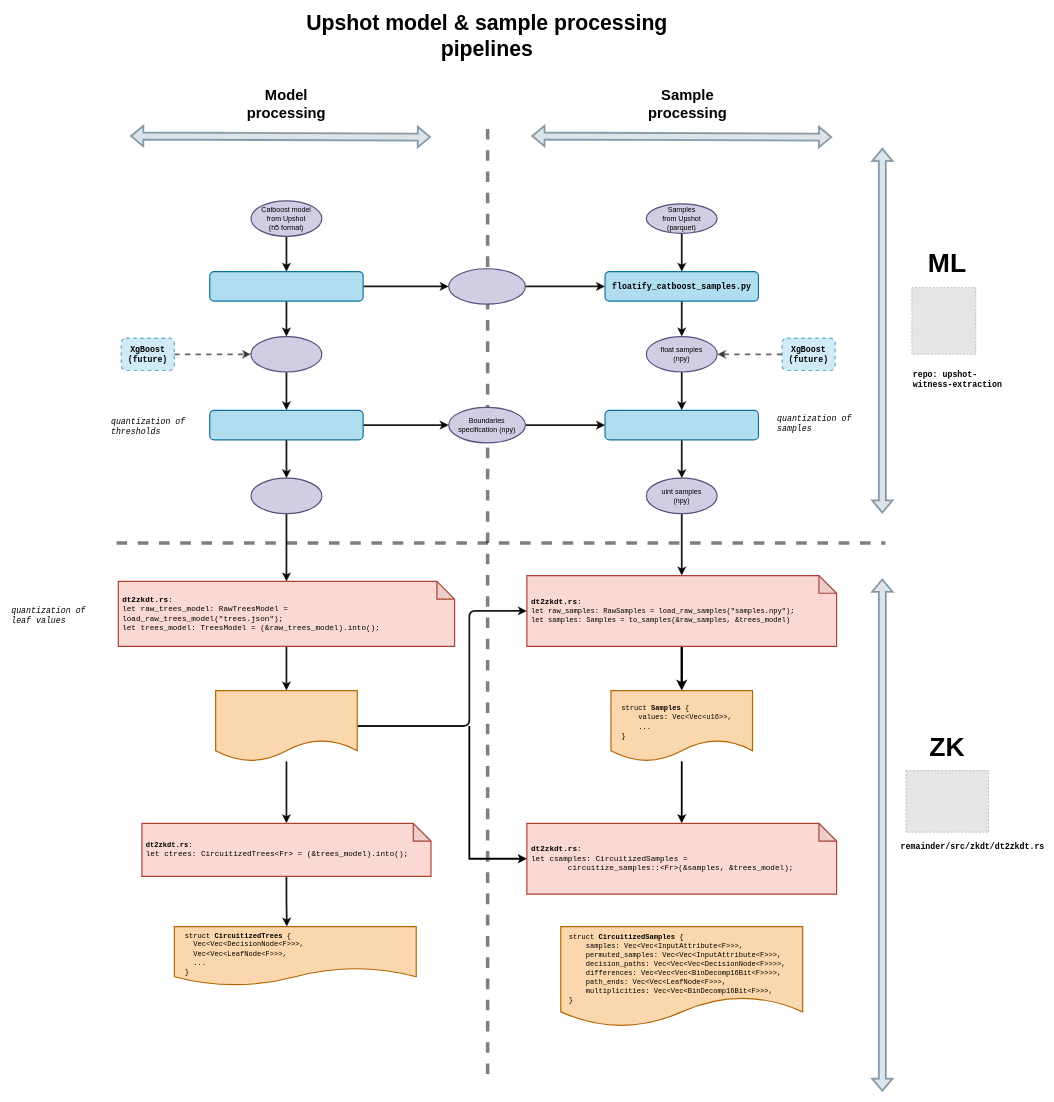
This 1054x1102 diagram has some shape labels left out. Grey dashed boxes stand in for pictures. Each missing label, with the centre of its shape:
"Feature specification (pickle)" belongs at pixel 487 286.
"float-threshold trees (JSON)" belongs at pixel 286 354.
"floatify_catboost_model.py" belongs at pixel 286 286.
"quantize_float_model.py" belongs at pixel 286 424.
"quantize_float_samples.py" belongs at pixel 681 424.
"struct TreesModel { trees: Vec<Node<i64>>, ... }" belongs at pixel 286 726.
"uint-threshold trees (JSON)" belongs at pixel 286 495.
